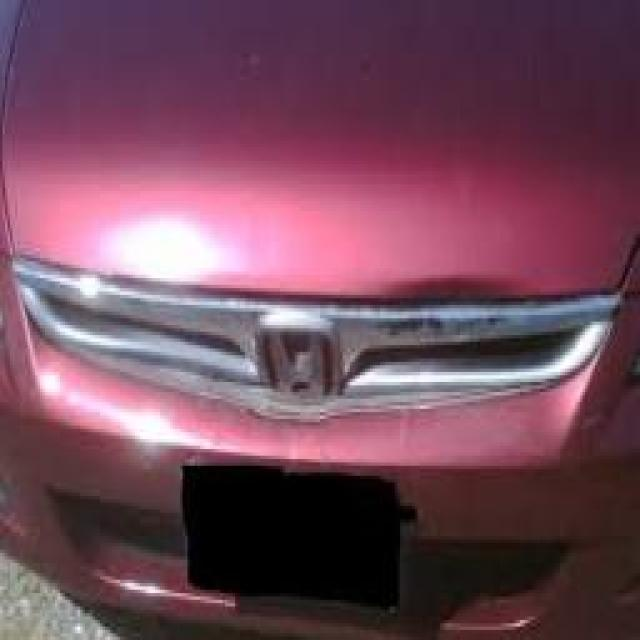Bonnet: (393, 259, 526, 314)
